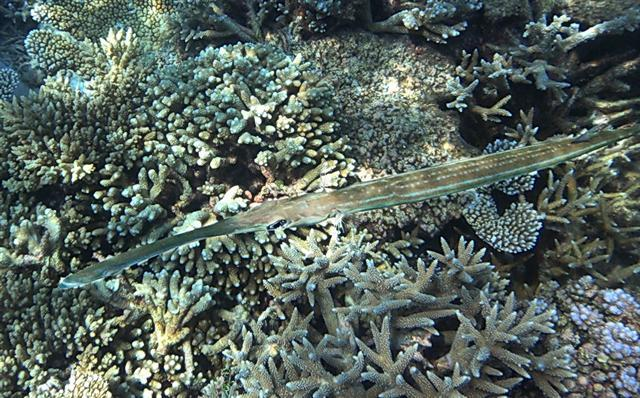Fistularia commersonii: (55, 118, 631, 291)
